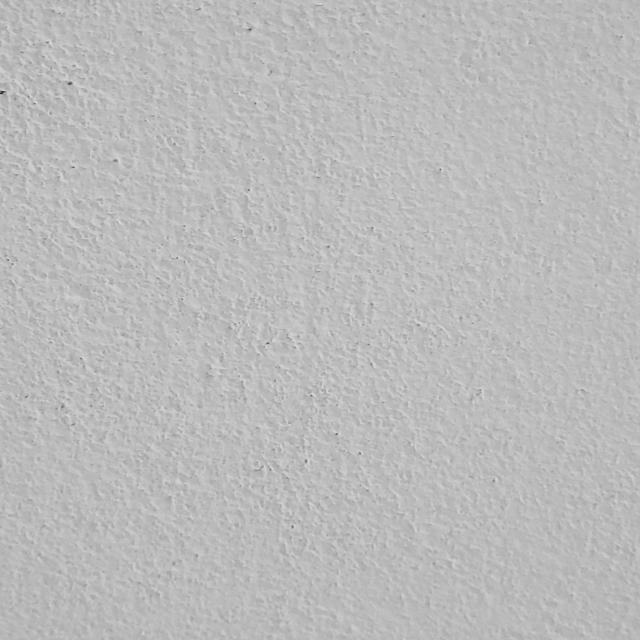rough and patchy surface: (6, 6, 628, 628)
